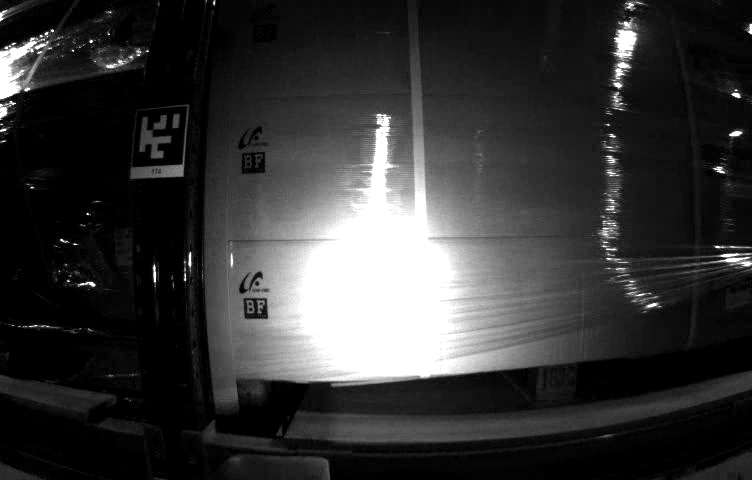True Barcode: (113, 228, 135, 264)
